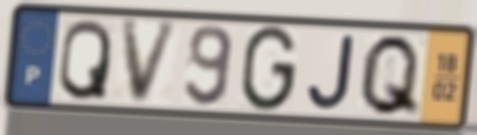9: (182, 22, 234, 109)
G: (237, 23, 301, 115)
J: (304, 32, 358, 113)
Q: (356, 31, 424, 120), (55, 16, 114, 103)
V: (118, 19, 183, 107)
